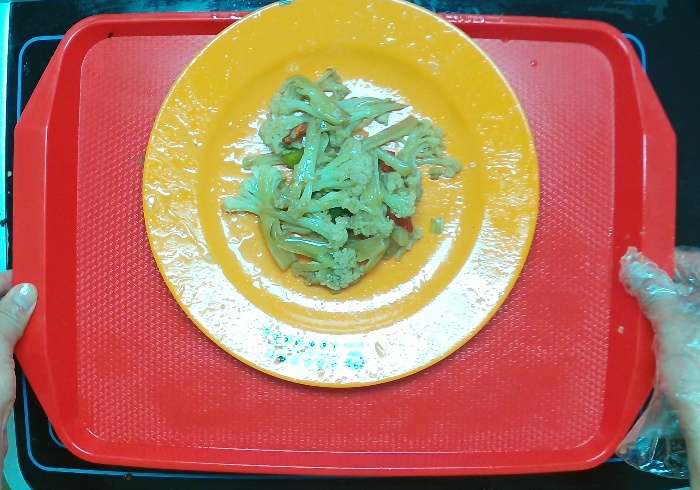YKMZ-Ju_Se_Mian_Pan: (127, 1, 550, 417)
